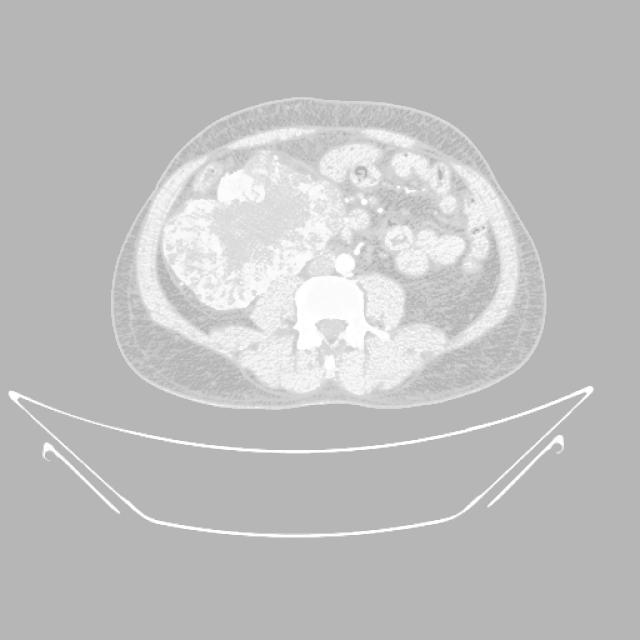TUMOR: (95, 161, 568, 350)
